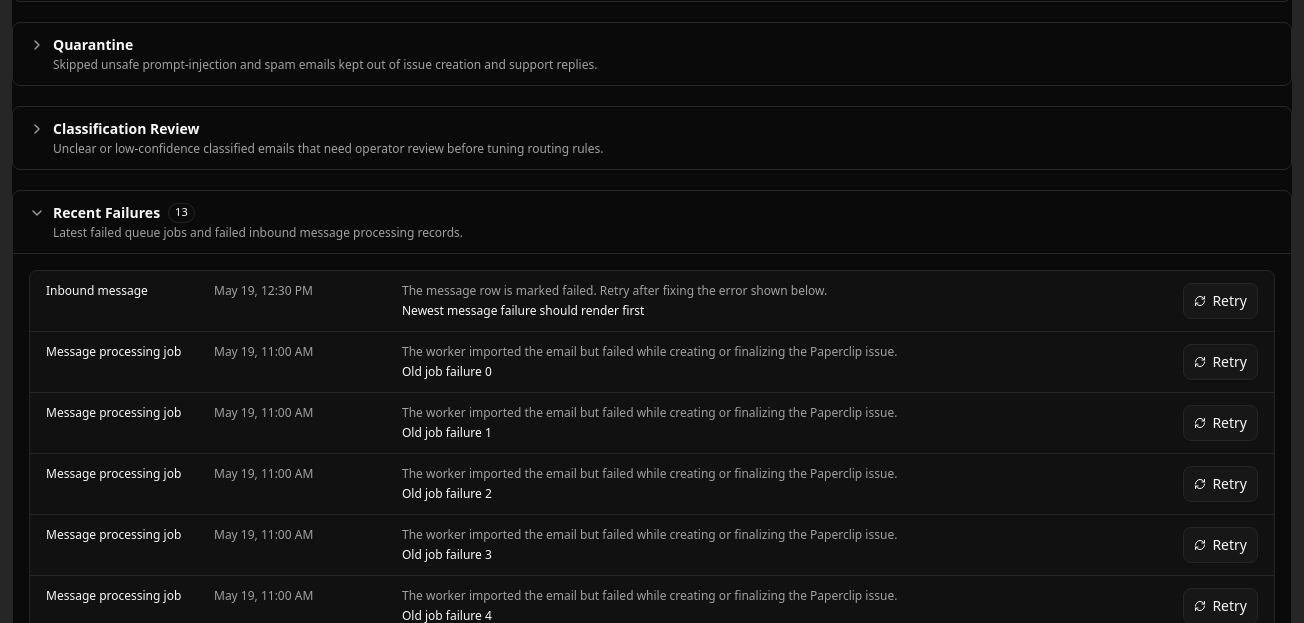
InboundEmailOps › surfaces retry failures from the API
(page scrolled)
Click the button "Retry" in the row of "May 19, 12:30 PM" at (1221, 300), box [1183, 282, 1258, 318]
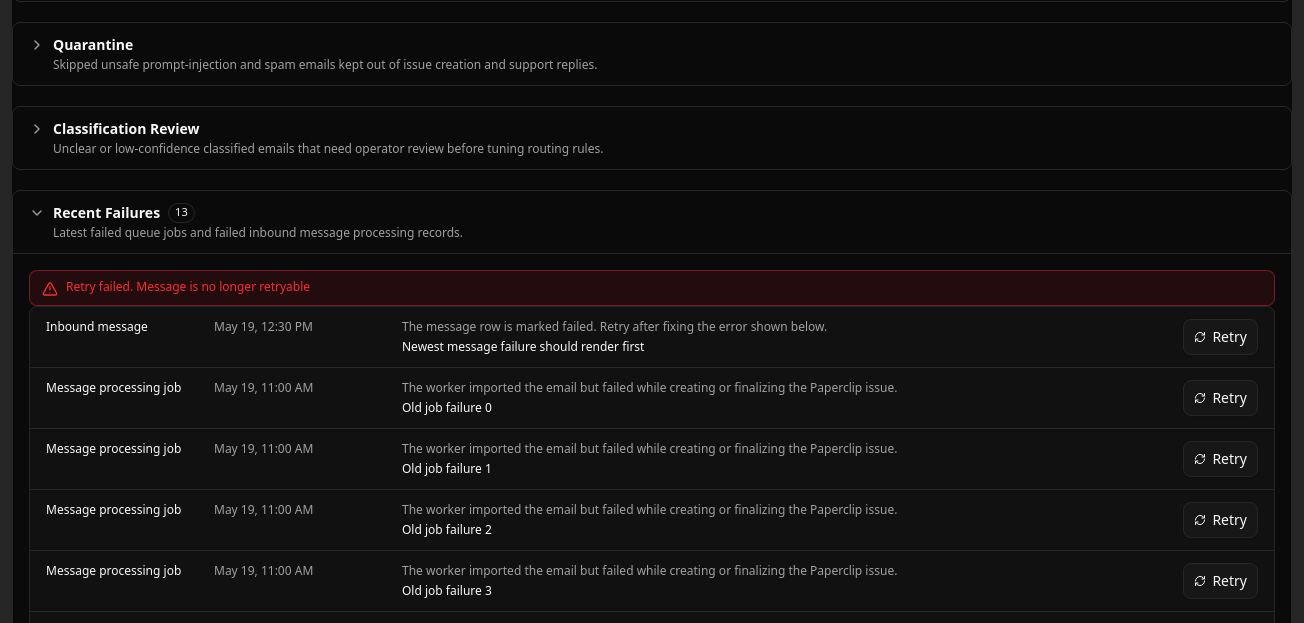
Expected: the text "Retry failed." is shown, [66, 278, 133, 294]
Expected: the text "Message is no longer retryable" is shown, [136, 278, 310, 294]
